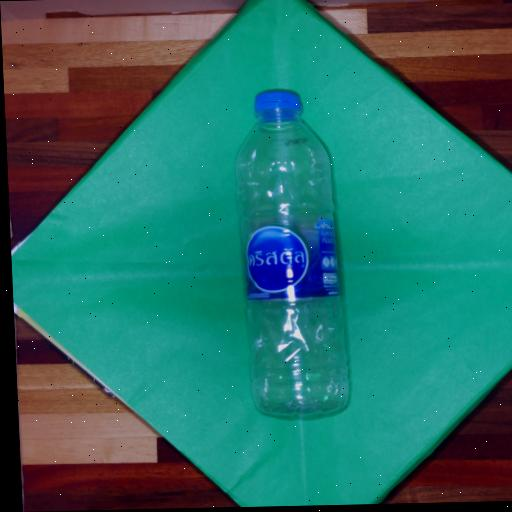bottle: (215, 85, 353, 429)
